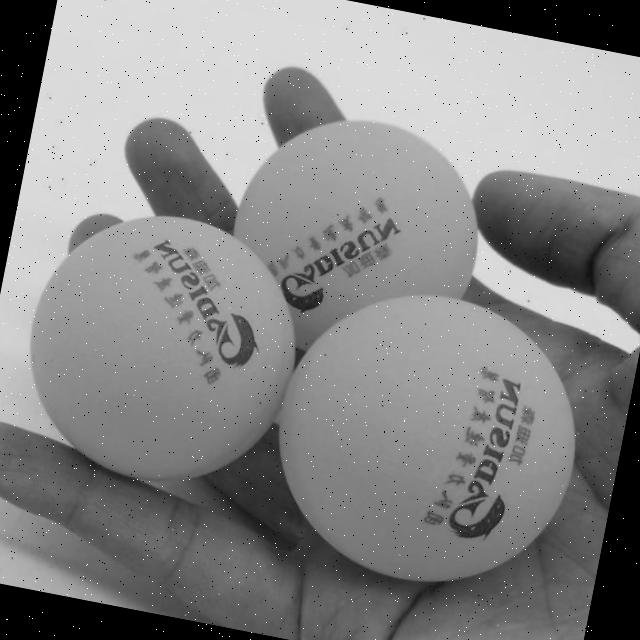ping-pong-ball: (245, 260, 605, 614), (2, 186, 321, 507), (201, 92, 504, 388)
